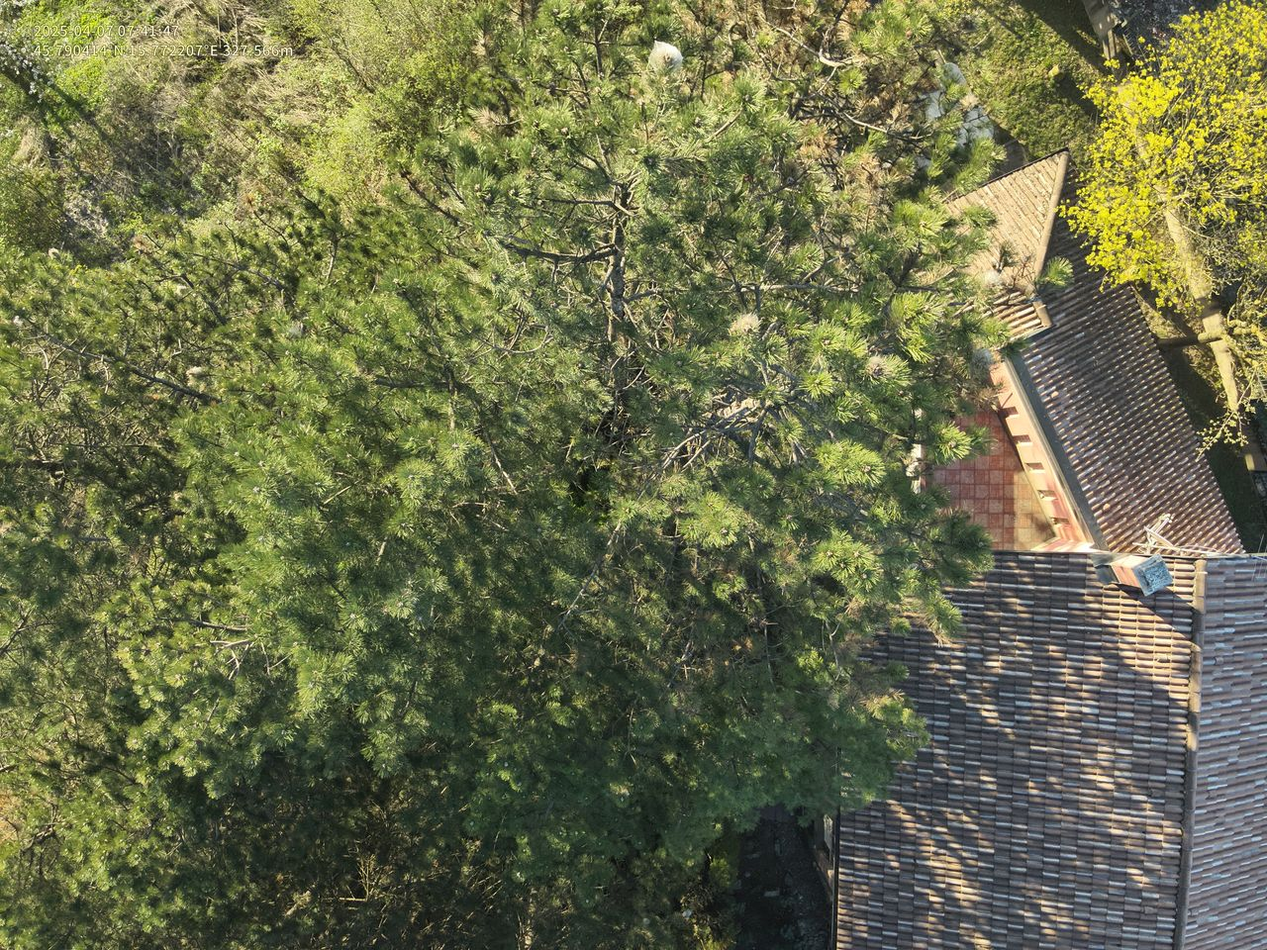thaumatopoea pityocampa jajno gnijezdo: (641, 35, 686, 94), (902, 440, 929, 492), (726, 310, 767, 340)
